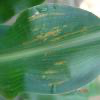Corn leaf blight: (1, 7, 99, 89)
